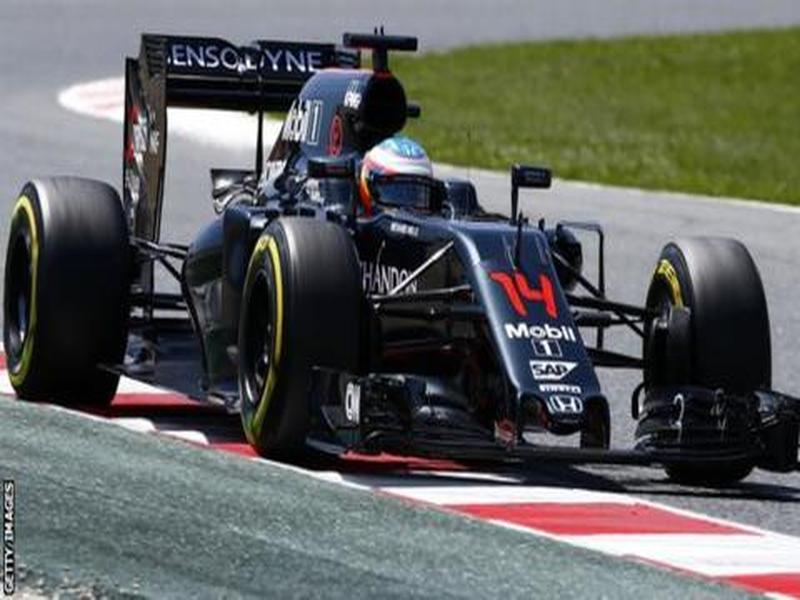f1: (28, 23, 800, 491)
